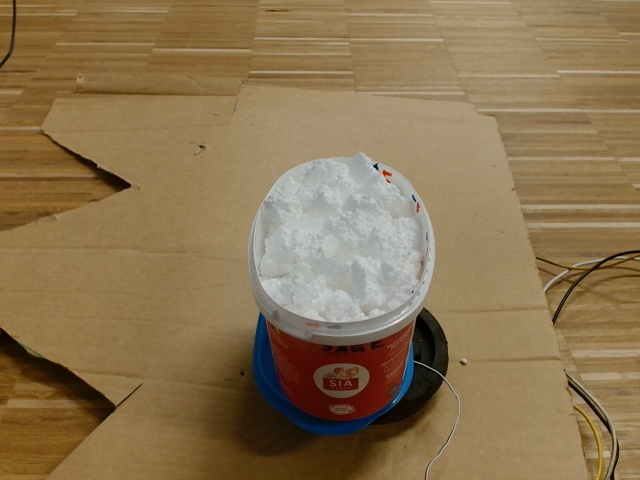Big_full: (246, 148, 437, 335)
